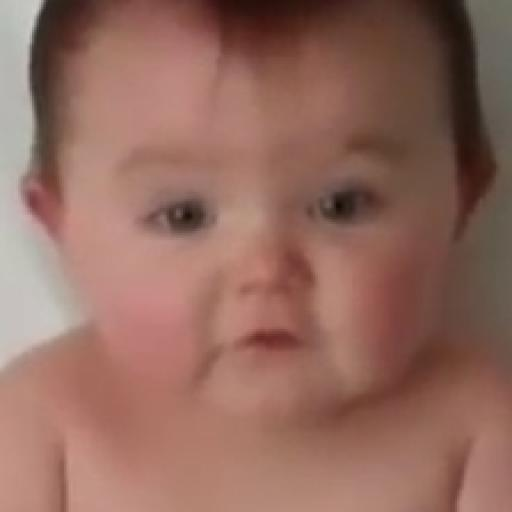Autism: (57, 23, 493, 443)
